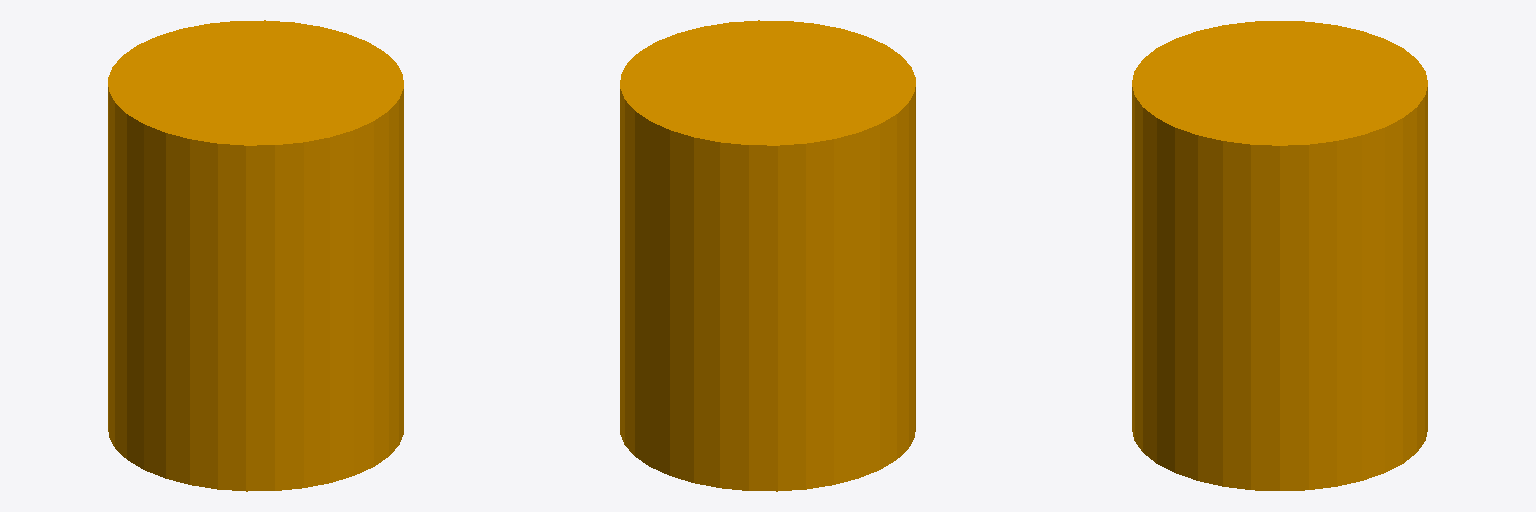
The robot description file, URDF, robot "orange_cylinder":
<?xml version="1.0" ?> 
<robot name="orange_cylinder" static="false">
  <link name="orange_cylinder">
     <inertial>
       <origin xyz="0 0 0" />
      <mass value="0.5" />
       <inertia  ixx="20.0" ixy="5.0"  ixz="5.0"  iyy="20.0"  iyz="5.0"  izz="100.0" />
       </inertial>
     <visual>
       <geometry>
         <cylinder length="0.18" radius="0.07" />
       </geometry>
       </visual>
       <collision>
       <geometry>
         <cylinder length="0.18" radius="0.07" />
       </geometry>
      </collision>
     </link>
   <gazebo reference="orange_cylinder">
      <material>Gazebo/Orange</material>
    </gazebo>
  </robot>

--- Facts derived from the render (not from the file) ---
3 views of the same robot in one strip: view 1: azimuth 30°, elevation 25°; view 2: azimuth 150°, elevation 25°; view 3: azimuth 270°, elevation 25° (orthographic).
Robot: orange_cylinder — 1 links, 0 joints (none); root link orange_cylinder; default pose: all joints at 0.
Visible links, largest first — view 1: orange_cylinder; view 2: orange_cylinder; view 3: orange_cylinder.
Link boxes in pixels (bbox=[...]): orange_cylinder: bbox=[108, 20, 403, 491]; orange_cylinder: bbox=[620, 20, 915, 491]; orange_cylinder: bbox=[1132, 21, 1427, 490].
Bounding box of the posed robot: 0.14 × 0.14 × 0.18 m (x, y, z).
Geometry: primitives only (box / cylinder / sphere), no mesh files.